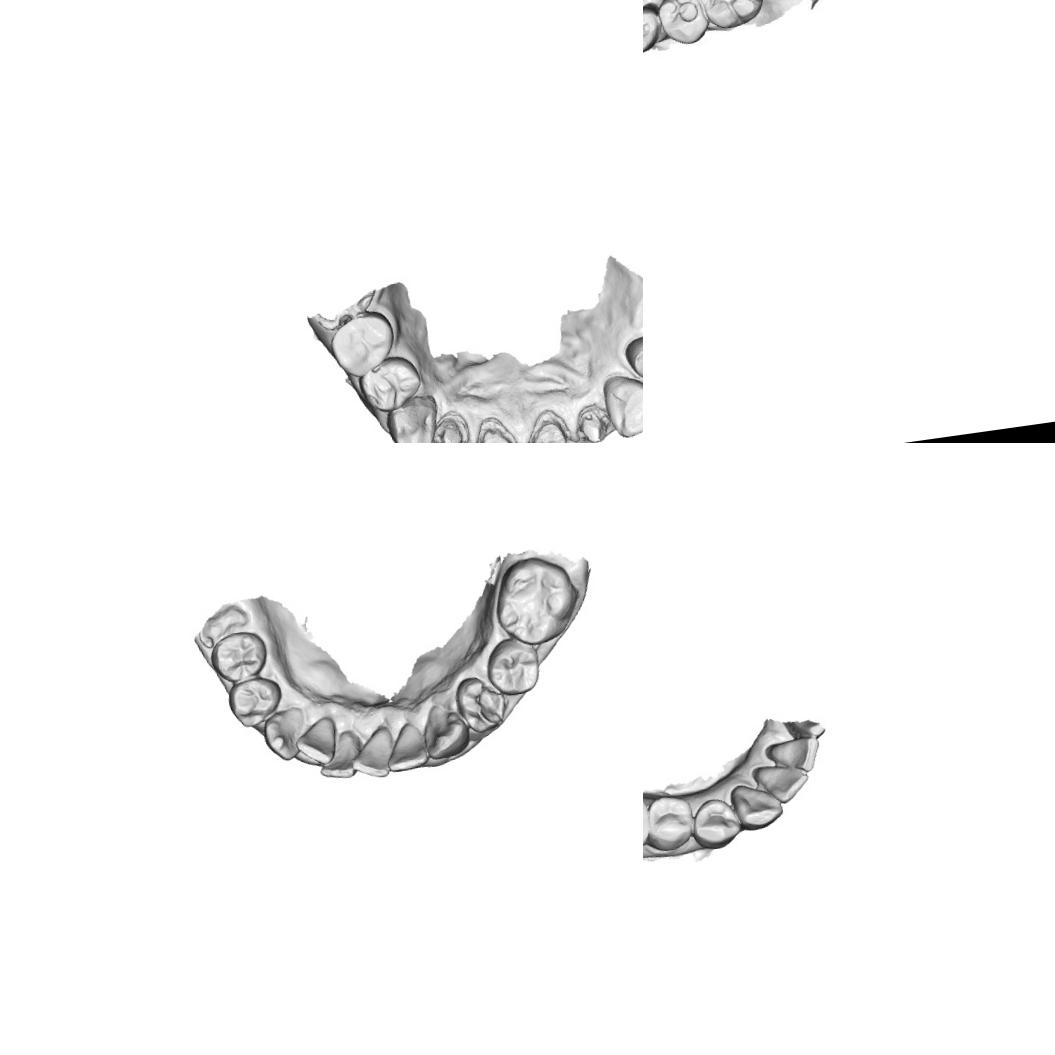canine: (727, 778, 787, 834), (381, 390, 444, 443), (599, 367, 643, 441), (421, 700, 468, 760), (258, 710, 308, 763)
crown: (523, 404, 575, 443), (572, 400, 613, 443), (469, 411, 520, 443), (427, 407, 472, 443)
incisor: (750, 758, 814, 809), (764, 734, 824, 780), (314, 730, 361, 782), (386, 722, 432, 775), (292, 720, 339, 768), (356, 728, 397, 780)
molar: (487, 550, 584, 651), (689, 0, 767, 34)
premolar: (326, 307, 399, 380), (356, 352, 426, 416), (452, 672, 510, 738), (483, 637, 543, 698), (208, 628, 271, 684), (643, 790, 697, 855), (225, 672, 282, 729), (688, 793, 742, 853), (654, 0, 712, 49), (643, 0, 671, 60), (621, 329, 643, 393)
